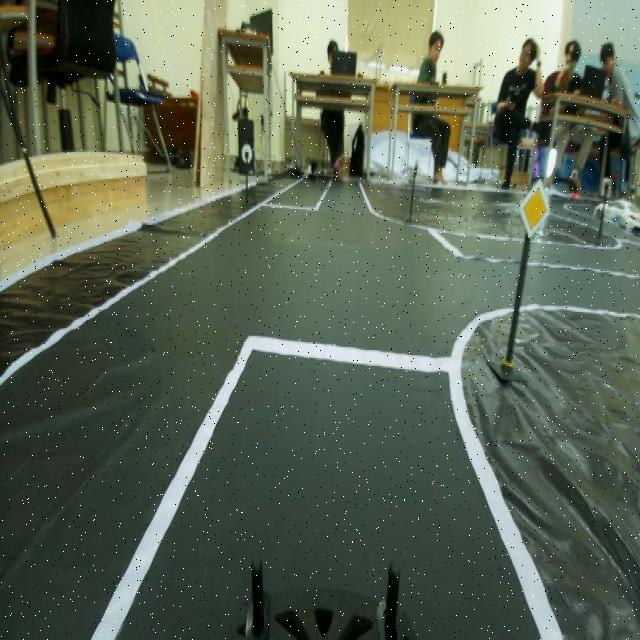priority: (514, 174, 548, 230)
